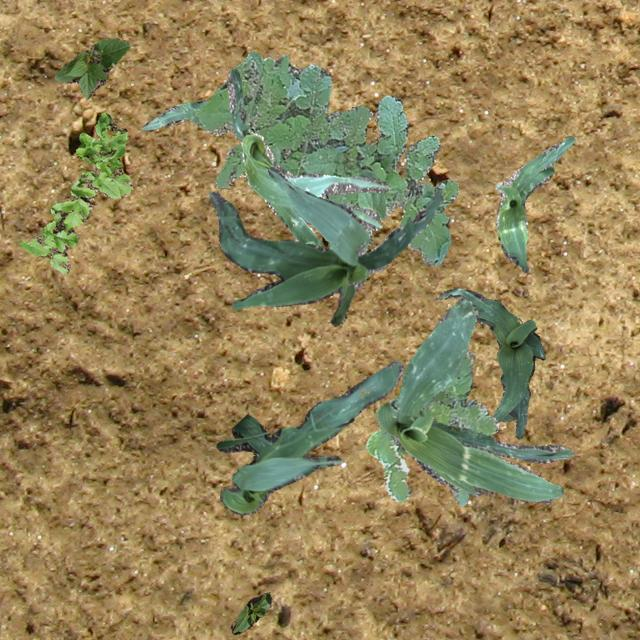crop: (376, 298, 572, 502), (208, 166, 442, 324), (215, 359, 402, 514), (227, 68, 390, 245), (438, 288, 544, 438), (494, 136, 574, 272), (327, 165, 388, 252), (53, 36, 129, 100), (140, 100, 207, 130), (230, 592, 272, 634)
weed: (190, 51, 458, 264), (364, 348, 498, 504), (18, 112, 132, 274), (430, 390, 450, 406)
